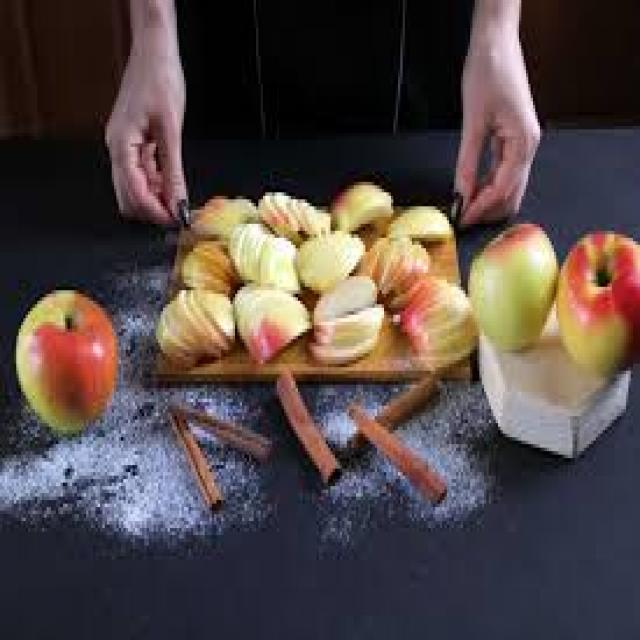Apple: (15, 286, 115, 438), (561, 221, 639, 367), (473, 232, 557, 343), (308, 292, 388, 357), (398, 286, 471, 356), (159, 292, 233, 359), (237, 291, 304, 358), (294, 236, 361, 286), (366, 234, 422, 288), (335, 180, 394, 227), (235, 237, 295, 279)
